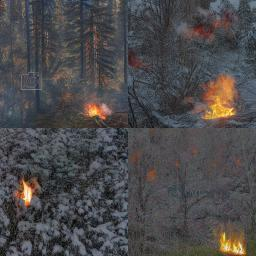Small fire: (196, 77, 240, 120), (216, 228, 249, 256), (16, 182, 41, 209), (85, 101, 111, 123)
